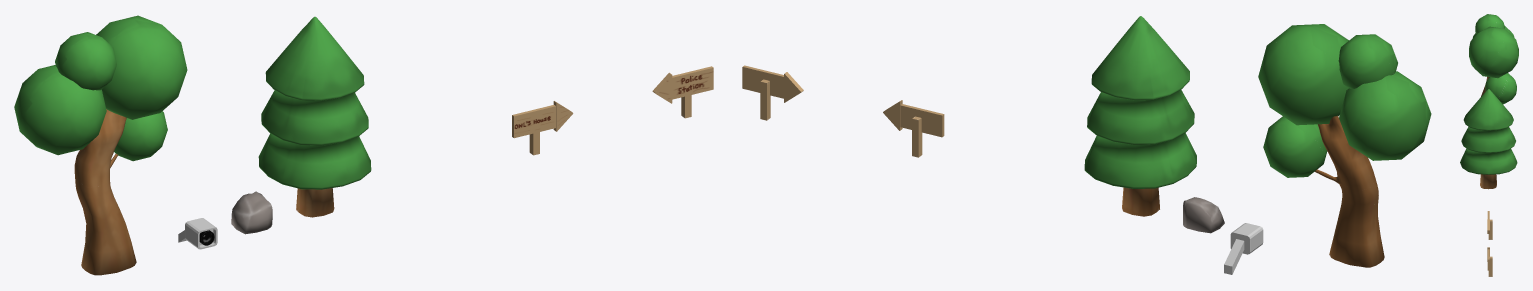
File: environment.glb
3 views of the same model, side by side, from view 1: azimuth 30°, elevation 25°; view 2: azimuth 150°, elevation 25°; view 3: azimuth 270°, elevation 25° (orthographic). The views are drawn at different scales.
Parts seen in each view (by area): view 1: Tree1, Tree2, sign2, Sign1, Rock', CCTV; view 2: Tree1, Tree2, Sign1, sign2, Rock', CCTV; view 3: Tree2, Tree1, sign2, Sign1.
Part boxes in pixels (x1=…): Tree1: x1=14, y1=15, x2=187, y2=275; Tree2: x1=258, y1=16, x2=371, y2=217; sign2: x1=652, y1=66, x2=713, y2=118; Sign1: x1=512, y1=101, x2=573, y2=155; Rock': x1=231, y1=191, x2=272, y2=234; CCTV: x1=178, y1=218, x2=217, y2=249; Tree1: x1=1258, y1=24, x2=1431, y2=267; Tree2: x1=1084, y1=16, x2=1196, y2=216; Sign1: x1=883, y1=100, x2=944, y2=157; sign2: x1=742, y1=65, x2=803, y2=120; Rock': x1=1183, y1=197, x2=1224, y2=233; CCTV: x1=1224, y1=223, x2=1263, y2=274; Tree2: x1=1460, y1=89, x2=1517, y2=189; Tree1: x1=1469, y1=14, x2=1518, y2=104; sign2: x1=1487, y1=247, x2=1492, y2=276; Sign1: x1=1487, y1=211, x2=1492, y2=239.
Bounding box in the file's own units: 21.8 × 7.62 × 3.23.
1 material, 1 textured.
